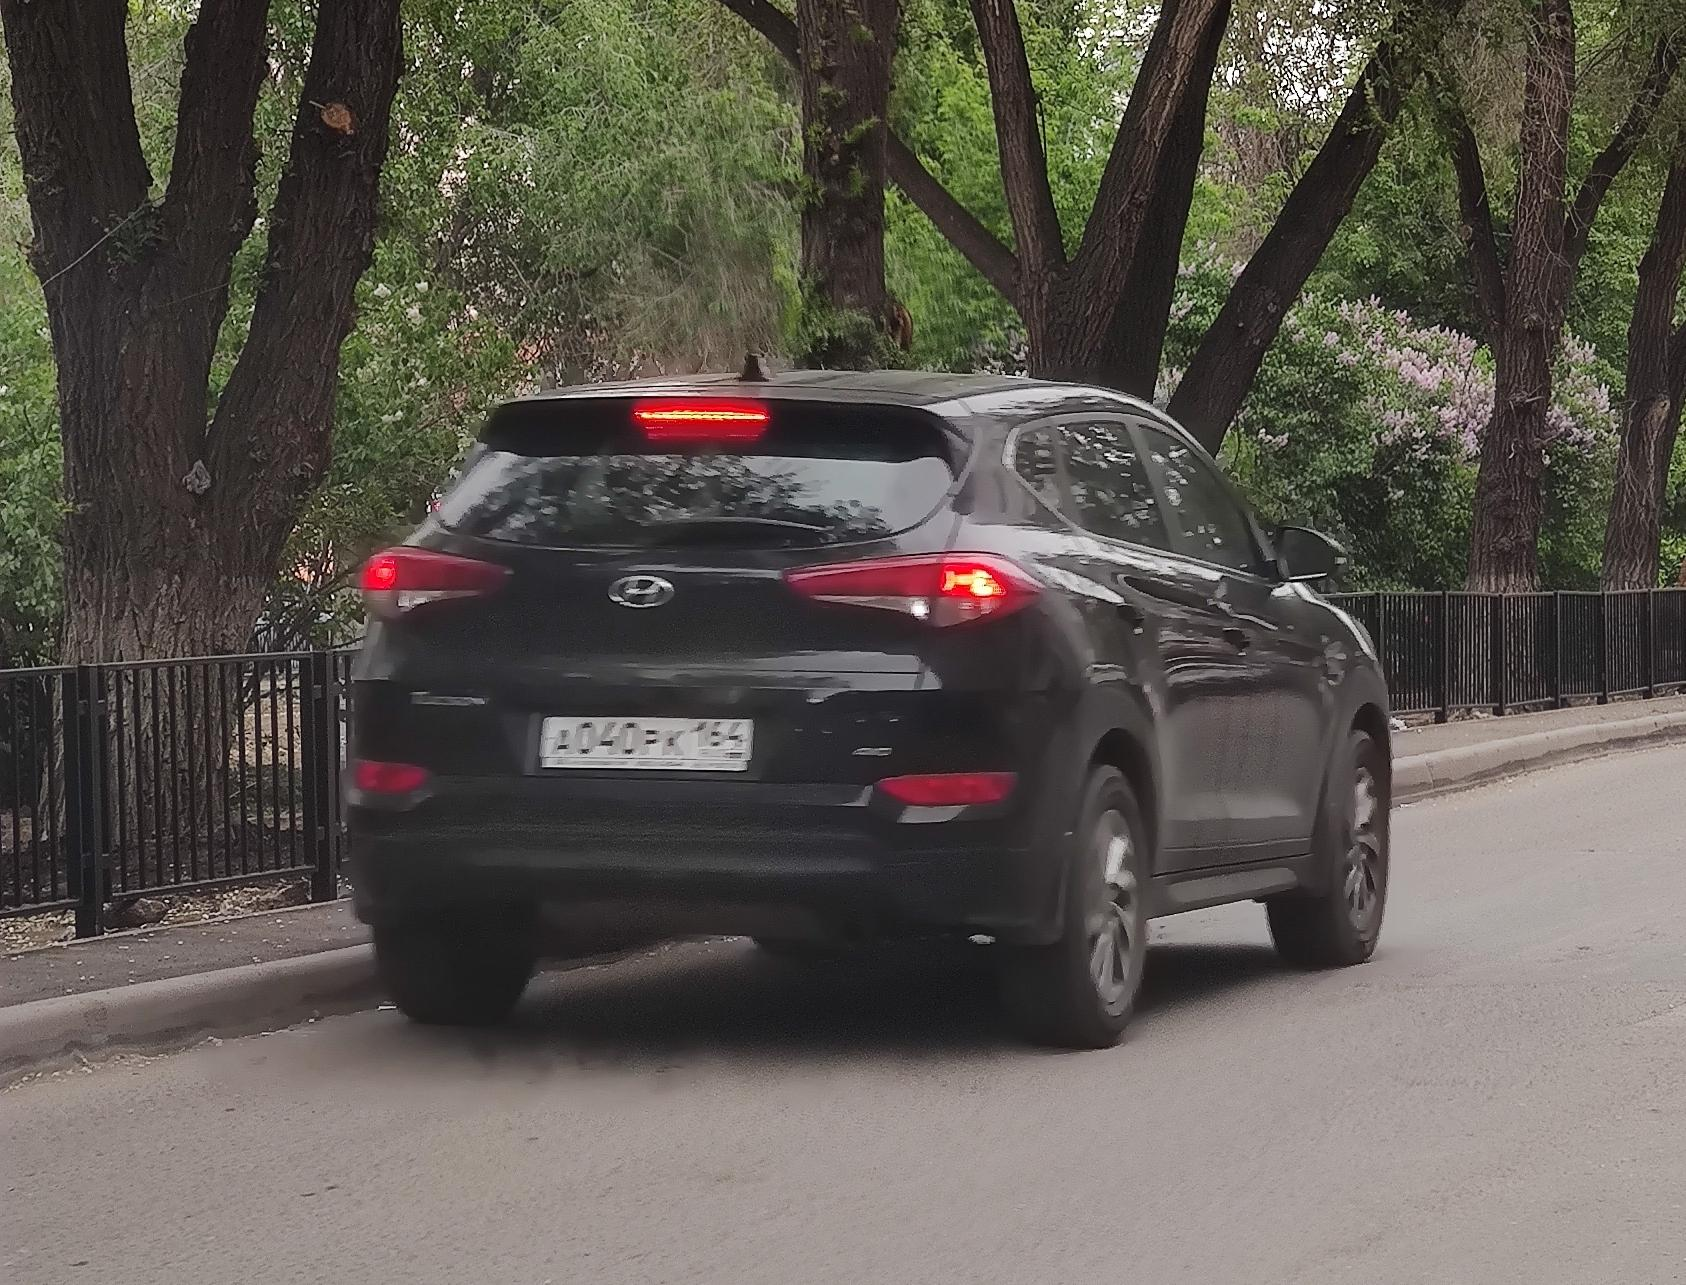license-plateSW: (538, 715, 755, 772)
